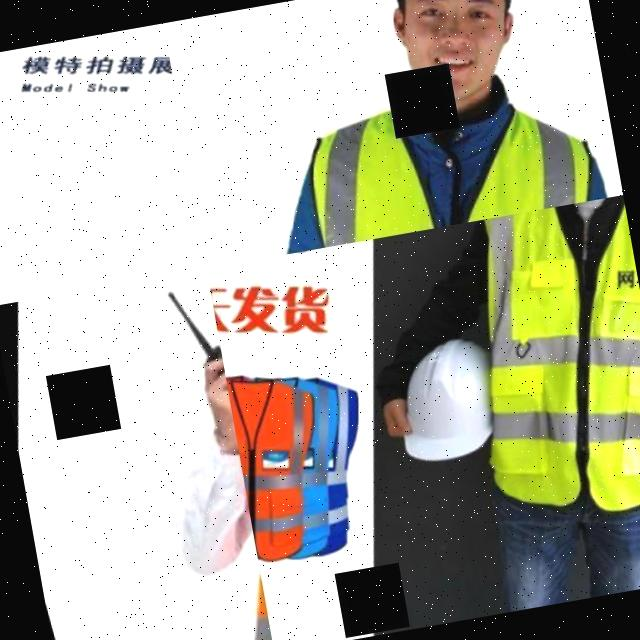vest: (201, 46, 619, 264), (406, 194, 640, 560), (146, 322, 274, 640), (225, 361, 342, 576)
